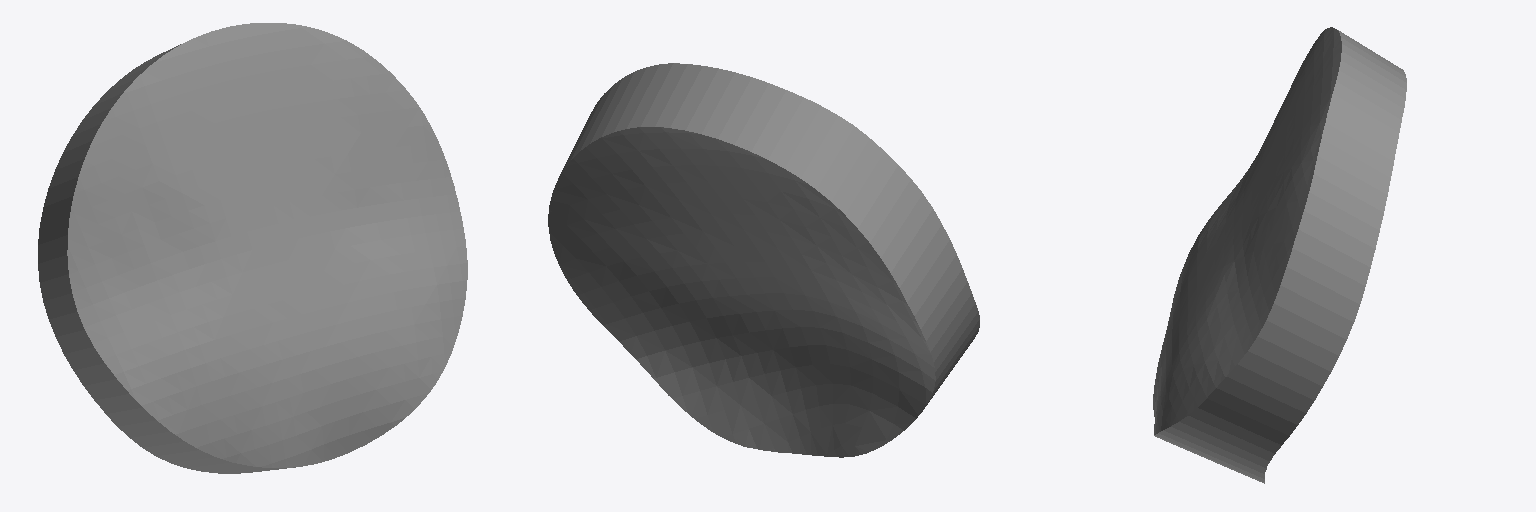
File: head_plug_nomargin.obj
The picture shows the model from 3 angles: view 1: azimuth 30°, elevation 25°; view 2: azimuth 150°, elevation 25°; view 3: azimuth 270°, elevation 25°; orthographic projection.
Visible parts, largest first — view 1: head_plug_nomargin; view 2: head_plug_nomargin; view 3: head_plug_nomargin.
Boxes of the visible parts, <box> form: head_plug_nomargin: <box>38,23,467,473</box>; head_plug_nomargin: <box>548,63,979,457</box>; head_plug_nomargin: <box>1153,27,1406,483</box>.
Bounding box in the file's own units: 41.82 × 42.88 × 23.95.